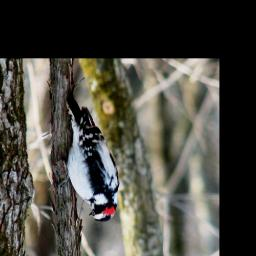Woodpecker: (59, 87, 123, 221)
